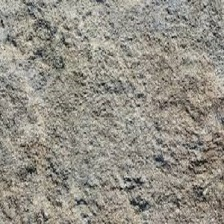sandy_soil: (7, 18, 208, 205)
